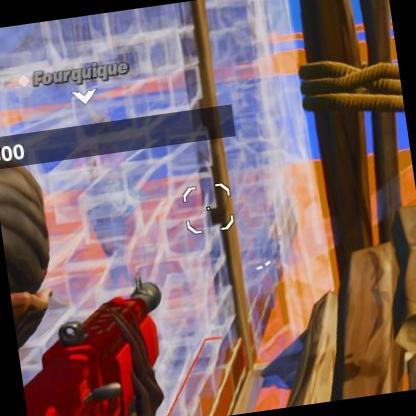person: (54, 92, 152, 282)
